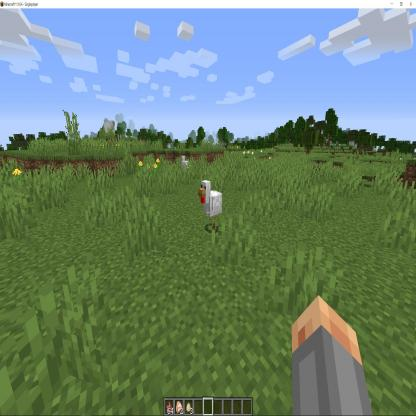minecraft-pigs: (197, 178, 225, 235), (179, 155, 190, 180)
